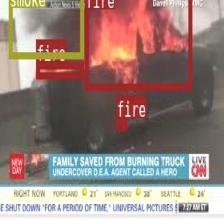fire: (85, 0, 192, 90), (36, 61, 83, 77), (115, 118, 126, 128)
smoke: (8, 0, 82, 58)
